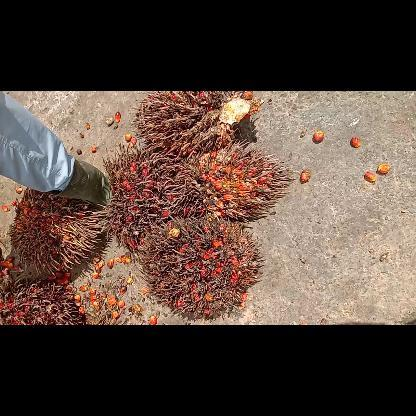Terlalu masak: (133, 210, 267, 320), (99, 138, 215, 256), (178, 136, 298, 226), (130, 90, 268, 168)
